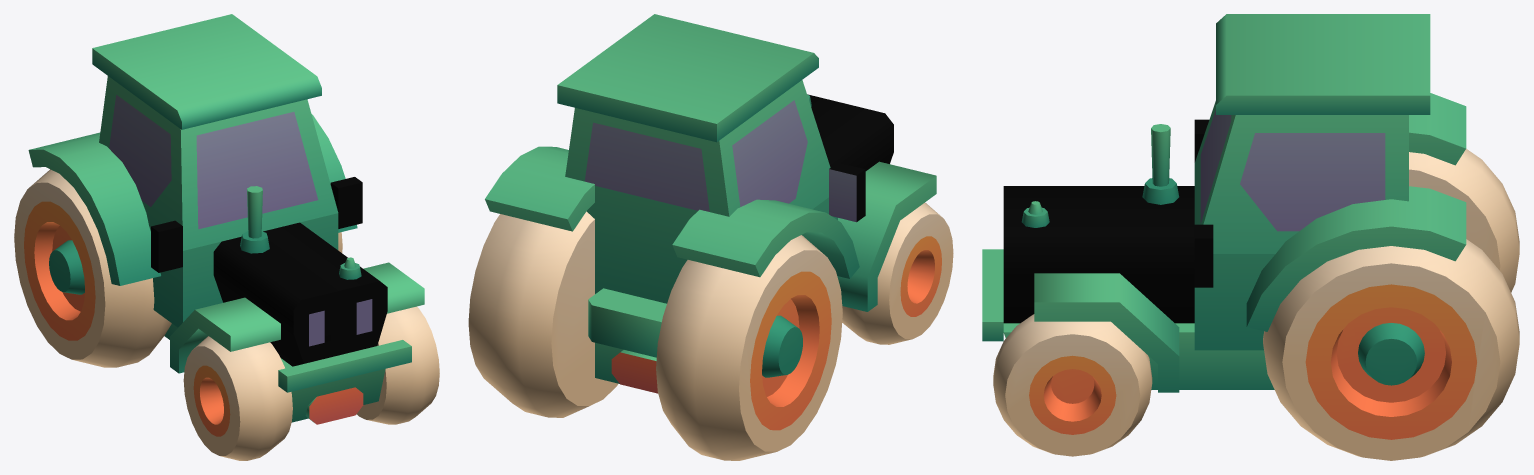
File: tractor.glb
3 views of the same model, side by side, from view 1: azimuth 30°, elevation 25°; view 2: azimuth 150°, elevation 25°; view 3: azimuth 270°, elevation 25° (orthographic). The views are drawn at different scales.
Parts seen in each view (by area): view 1: body, wheel-back-right, wheel-front-right, wheel-front-left; view 2: body, wheel-back-right, wheel-back-left, wheel-front-right; view 3: body, wheel-back-left, wheel-front-left, wheel-back-right.
Part boxes in pixels (x1,y1,x2,y2): body: (28,14,424,424); wheel-back-right: (14,169,171,367); wheel-front-right: (183,336,292,460); wheel-front-left: (356,306,439,424); body: (485,14,936,393); wheel-back-right: (656,235,842,460); wheel-back-left: (468,211,618,417); wheel-front-right: (842,202,953,344); body: (982,14,1466,392); wheel-back-left: (1263,239,1519,460); wheel-front-left: (993,314,1152,456); wheel-back-right: (1409,149,1519,292).
Bounding box in the file's own units: 1.34 × 1.6 × 2.2.
Materials: 1 (1 with a texture image).
